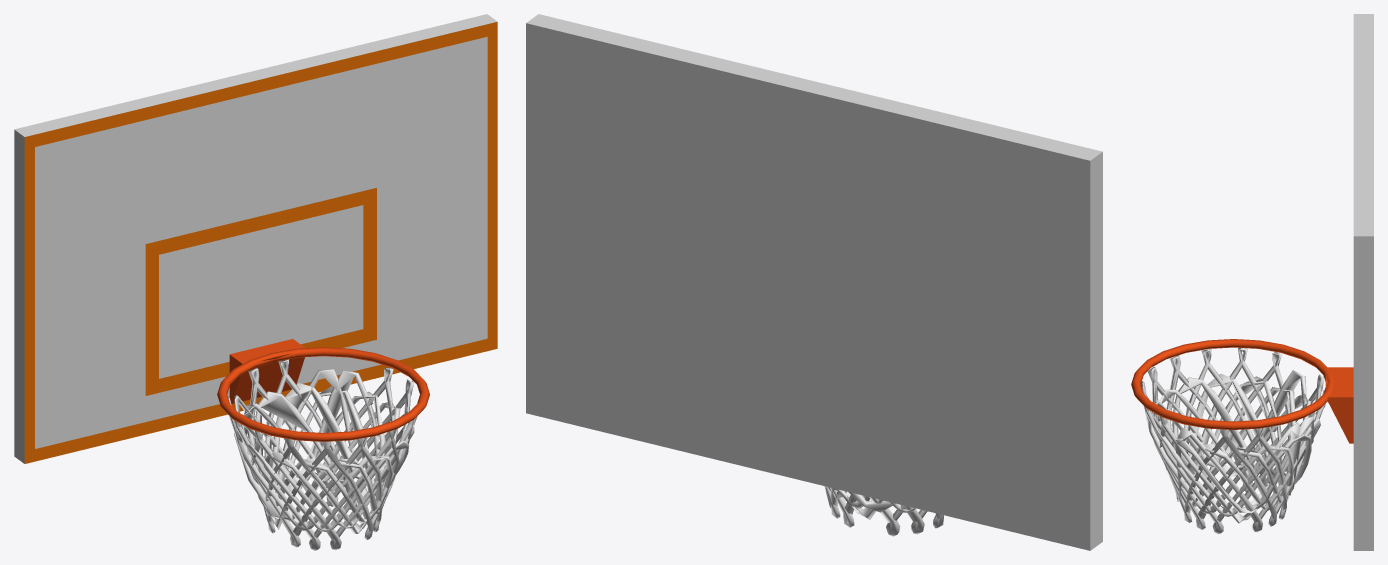
Rendered from aro.glb.
The picture shows the model from 3 angles, left to right: view 1: azimuth 30°, elevation 25°; view 2: azimuth 150°, elevation 25°; view 3: azimuth 270°, elevation 25°; orthographic projection. The views are drawn at different scales.
Visible parts, largest first — view 1: Cube, net, Torus.003, Cube.001; view 2: Cube, net; view 3: net, Cube, Torus.003, Cube.001.
Part boxes in pixels (x1,y1,x2,y2): Cube: (14,14,497,463); net: (228,359,417,550); Torus.003: (217,347,429,441); Cube.001: (229,339,305,403); Cube: (526,14,1102,550); net: (824,486,943,536); net: (1141,348,1325,534); Cube: (1353,14,1373,550); Torus.003: (1131,339,1334,429); Cube.001: (1325,367,1353,443).
Size of the model in its own units: 12.65 by 10.31 by 5.84.
